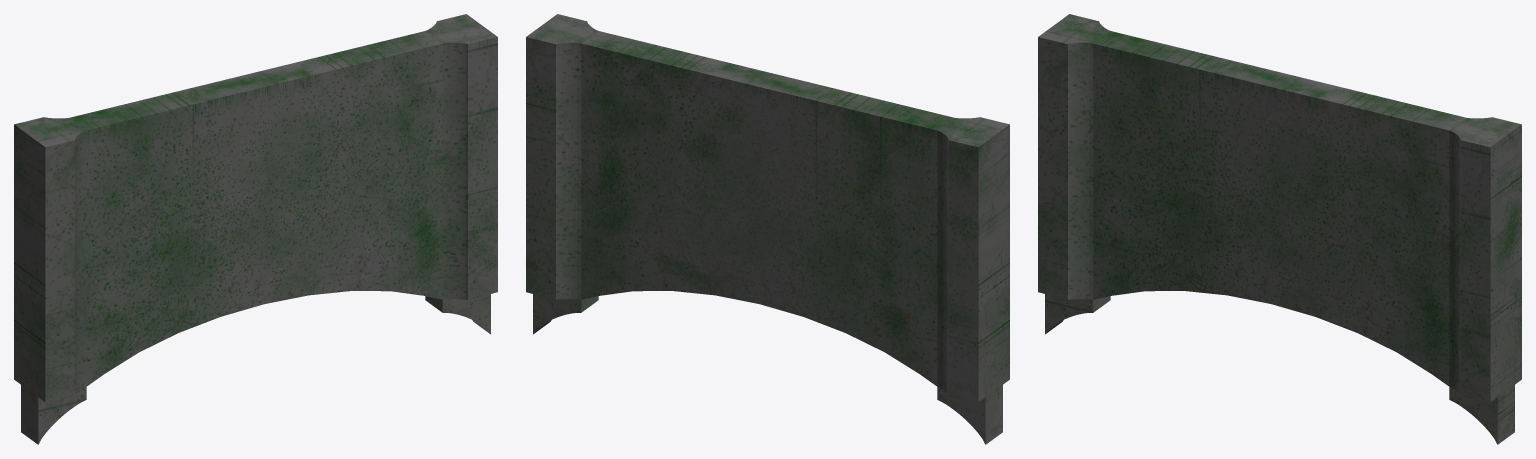
Rendered from Penghubung_Pillar.glb.
3 renders of one model, left to right at view 1: azimuth 30°, elevation 25°; view 2: azimuth 150°, elevation 25°; view 3: azimuth 330°, elevation 25°, orthographic.
Visible parts, largest first — view 1: Peng_pillar; view 2: Peng_pillar; view 3: Peng_pillar.
Boxes of the visible parts, x1=… form: Peng_pillar: x1=14, y1=14, x2=497, y2=444; Peng_pillar: x1=526, y1=14, x2=1009, y2=444; Peng_pillar: x1=1038, y1=14, x2=1521, y2=444.
Bounding box in the file's own units: 2.28 × 1.46 × 0.2744.
1 material, 1 textured.
